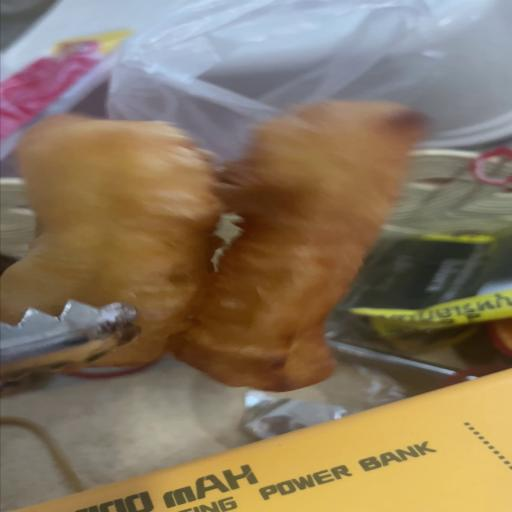street_burnt_defect: (0, 107, 421, 390)
